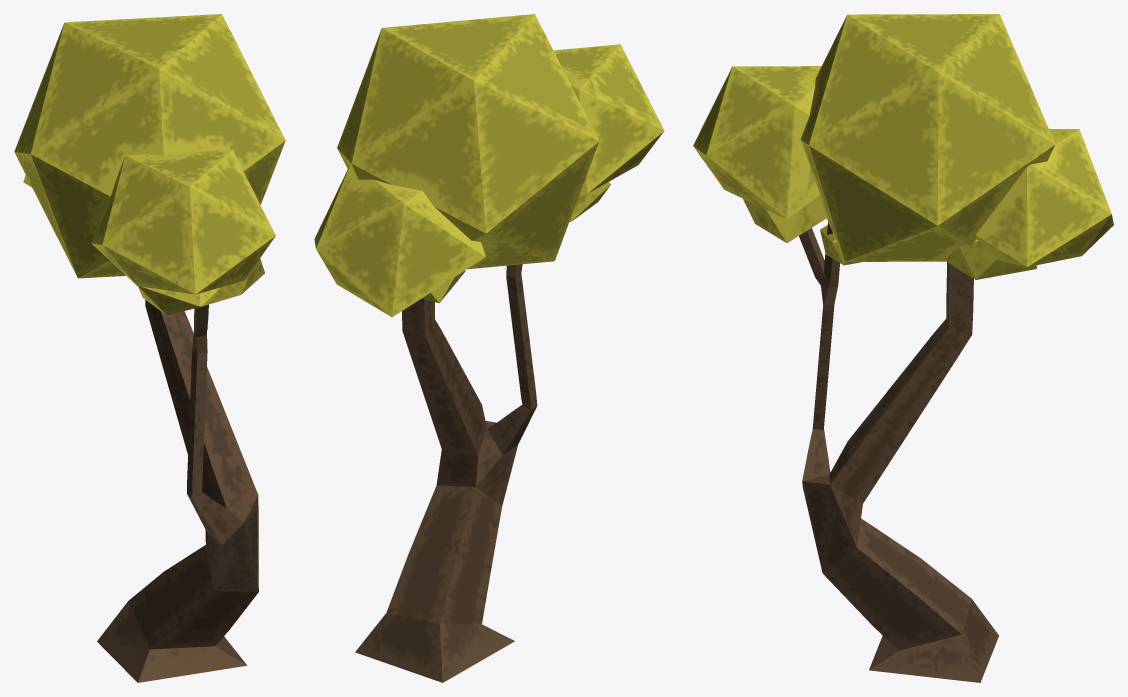
The model's file is SM_Tree_Forest_03.fbx.
3 renders of one model, left to right at view 1: azimuth 30°, elevation 25°; view 2: azimuth 150°, elevation 25°; view 3: azimuth 270°, elevation 25°, orthographic. The views are drawn at different scales.
Parts seen in each view (by area): view 1: Icosphere.041; view 2: Icosphere.041; view 3: Icosphere.041.
Part boxes in pixels (x1,y1,x2,y2): Icosphere.041: (14, 14, 285, 682); Icosphere.041: (314, 14, 664, 682); Icosphere.041: (693, 14, 1113, 682).
Bounding box in the file's own units: 100 × 239 × 148.
Materials: 1 (1 with a texture image).
